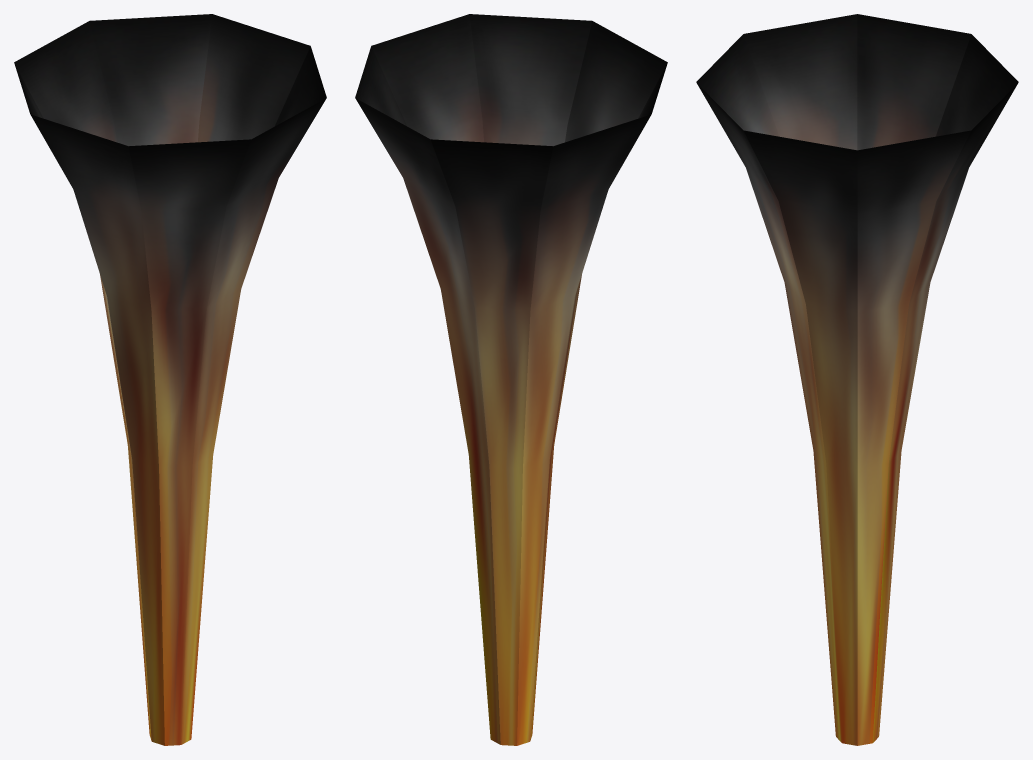
Rendered from eng_plumes_03.fbx.
The picture shows the model from 3 angles, left to right: view 1: azimuth 30°, elevation 25°; view 2: azimuth 150°, elevation 25°; view 3: azimuth 270°, elevation 25°; orthographic projection.
Visible parts, largest first — view 1: eng_plume_03; view 2: eng_plume_03; view 3: eng_plume_03.
Boxes of the visible parts, bbox=[...] form: eng_plume_03: bbox=[14, 14, 326, 745]; eng_plume_03: bbox=[355, 14, 667, 745]; eng_plume_03: bbox=[696, 14, 1018, 745].
Size of the model in its own units: 6.57 by 14.7 by 6.57.
Materials: 1 (1 with a texture image).
